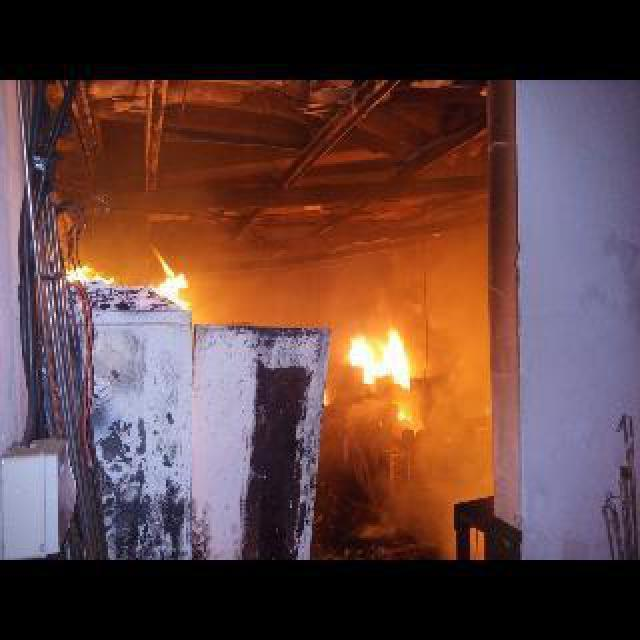Fire: (346, 324, 410, 386), (142, 244, 192, 308), (64, 262, 114, 282), (398, 408, 412, 420), (326, 390, 330, 404)
